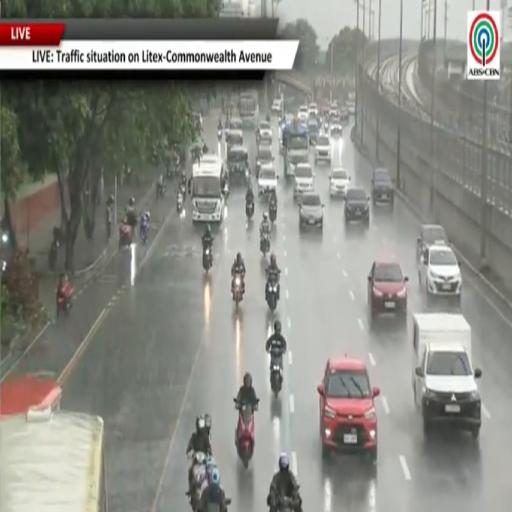bus: (0, 387, 107, 511), (0, 373, 59, 419), (192, 155, 226, 223)
car: (318, 357, 380, 461), (419, 242, 461, 300), (368, 259, 408, 317), (417, 224, 449, 260), (345, 187, 369, 225), (299, 192, 323, 229), (371, 168, 393, 206), (294, 163, 314, 202), (257, 163, 278, 196), (255, 144, 274, 179), (330, 168, 350, 197), (315, 134, 331, 163), (256, 121, 272, 143), (226, 130, 242, 152), (307, 119, 319, 146), (330, 119, 342, 137), (228, 118, 243, 131), (271, 99, 282, 116), (298, 106, 308, 122), (329, 103, 338, 120), (346, 100, 355, 116), (340, 107, 349, 123), (309, 103, 318, 117), (194, 112, 202, 126)
motorcycle: (234, 399, 257, 468), (186, 455, 208, 511), (270, 349, 282, 397), (57, 283, 73, 315), (266, 277, 279, 312), (276, 494, 299, 511), (119, 222, 133, 248), (48, 239, 59, 270), (233, 274, 243, 306), (203, 245, 212, 273), (260, 232, 270, 257), (140, 217, 148, 245), (177, 191, 184, 213), (246, 201, 254, 219), (269, 202, 276, 222), (156, 183, 164, 199), (223, 181, 229, 199), (179, 183, 185, 200), (218, 128, 223, 141), (324, 121, 329, 133)
truck: (412, 313, 481, 439), (283, 118, 309, 178), (239, 90, 258, 127)
